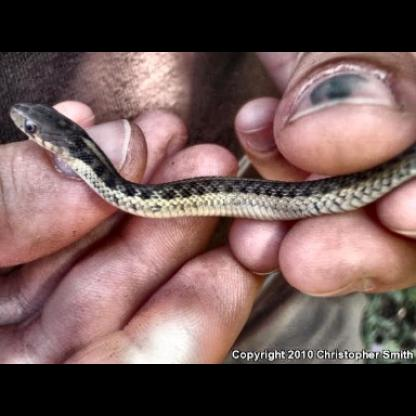Snake: (6, 70, 415, 220)
